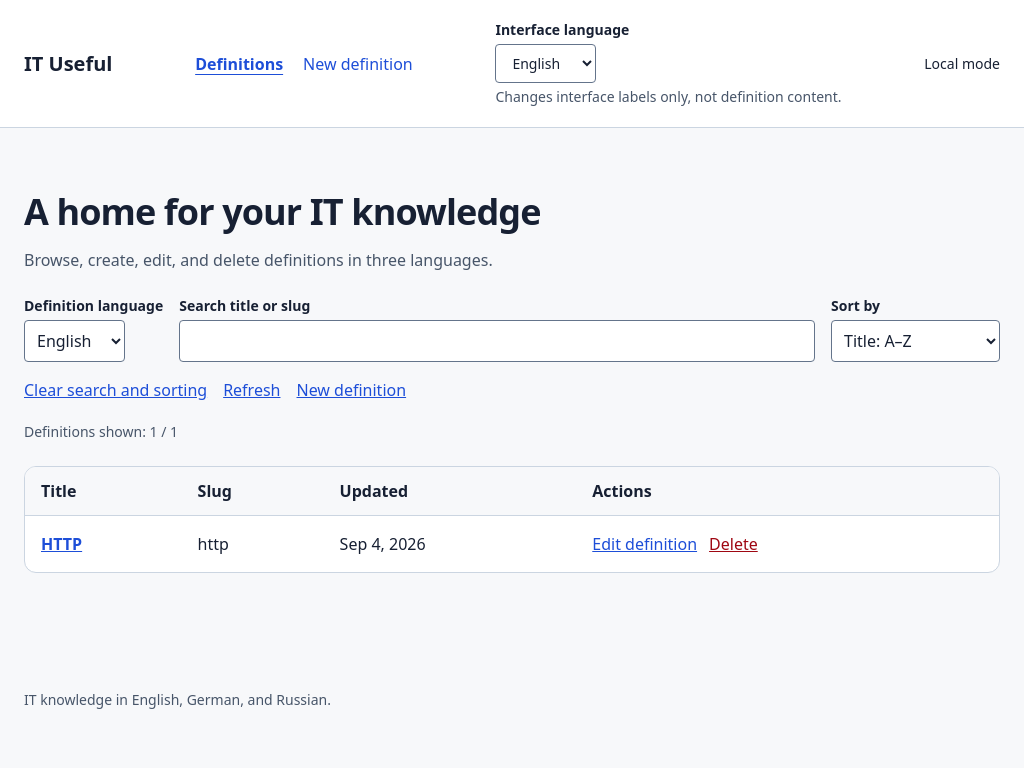
Scenario: list handles loaded records, content language, search and no matches
Expected: the link "HTTP" is shown, x1=41 y1=533 x2=82 y2=555
Select "Deutsch" in the dropdown labelled "Definition language" at (74, 341), box x1=24 y1=320 x2=125 y2=362
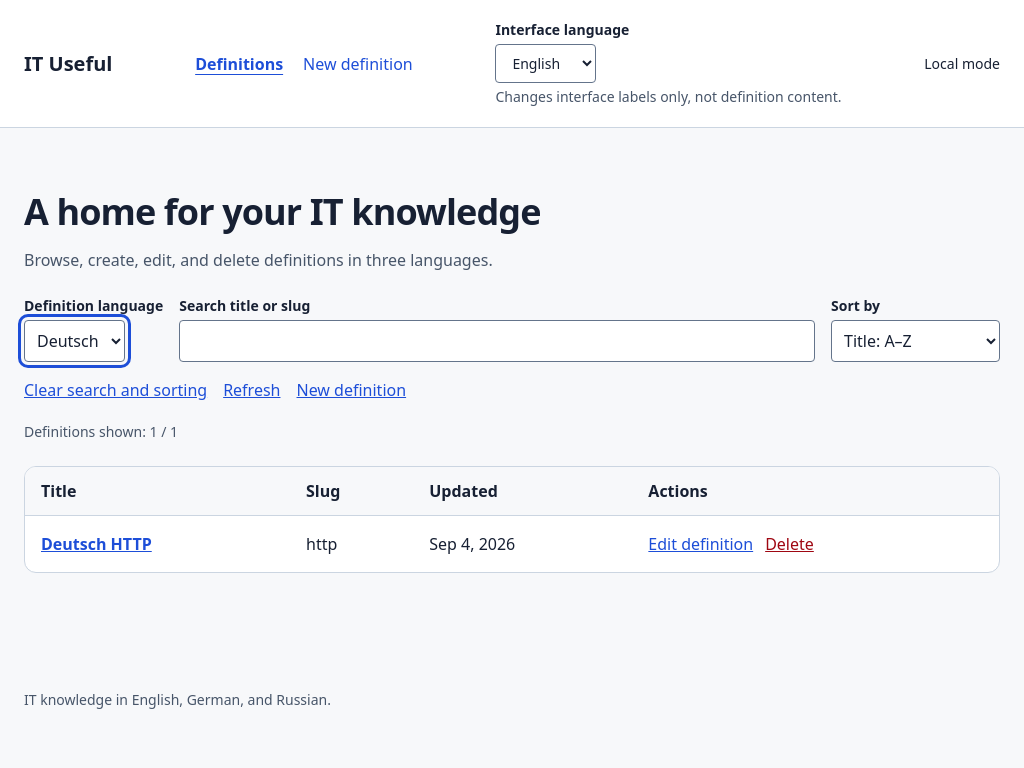
Now the link "Deutsch HTTP" has attribute lang="de", box x1=41 y1=533 x2=152 y2=555
Type "absent" into the search field labelled "Search title or slug" at (497, 341), box x1=179 y1=320 x2=815 y2=362
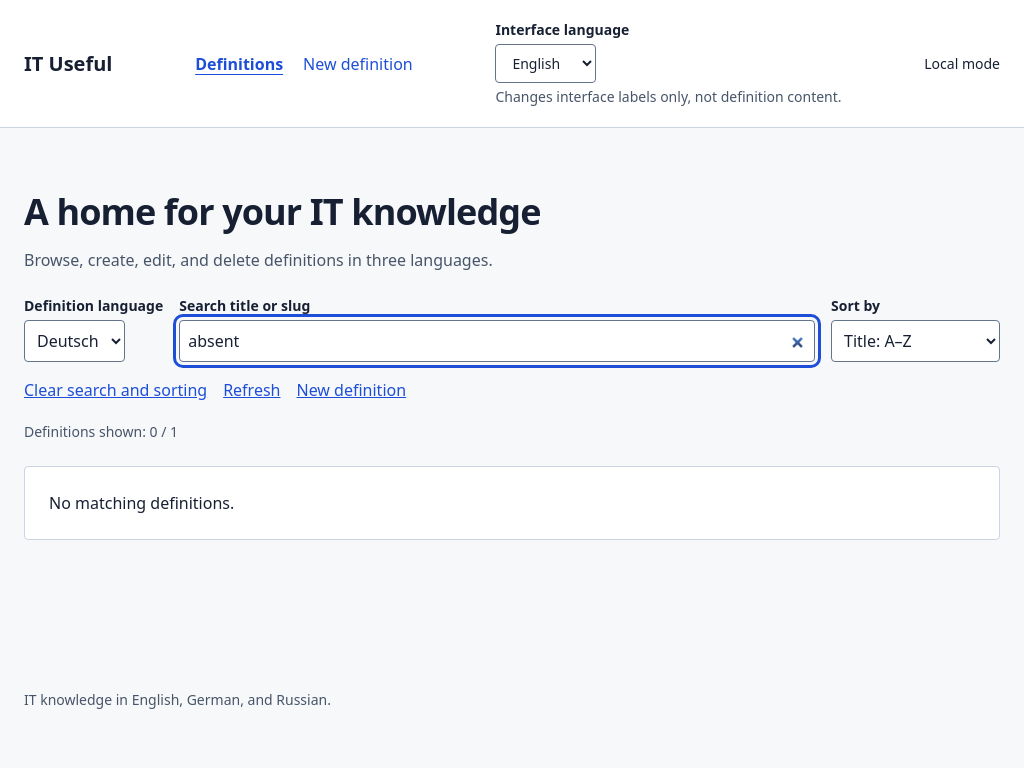
Now the table is gone
Click the button "Clear search and sorting" at (116, 390), box x1=24 y1=378 x2=207 y2=402
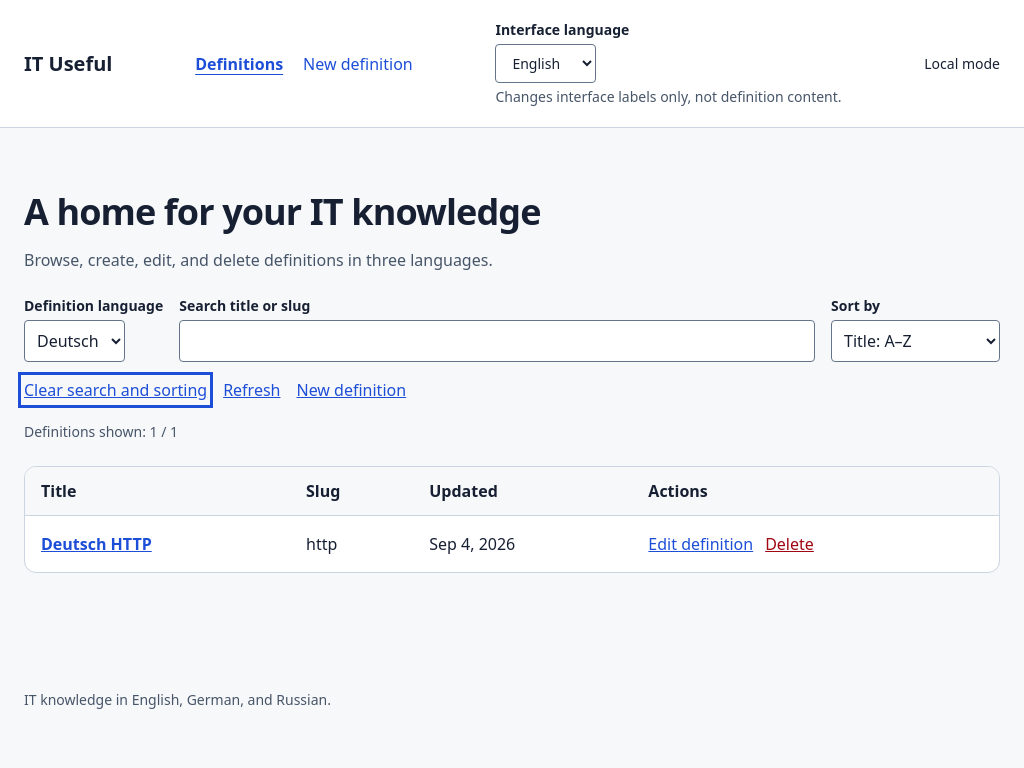
Now the table is shown, box x1=25 y1=467 x2=999 y2=572
